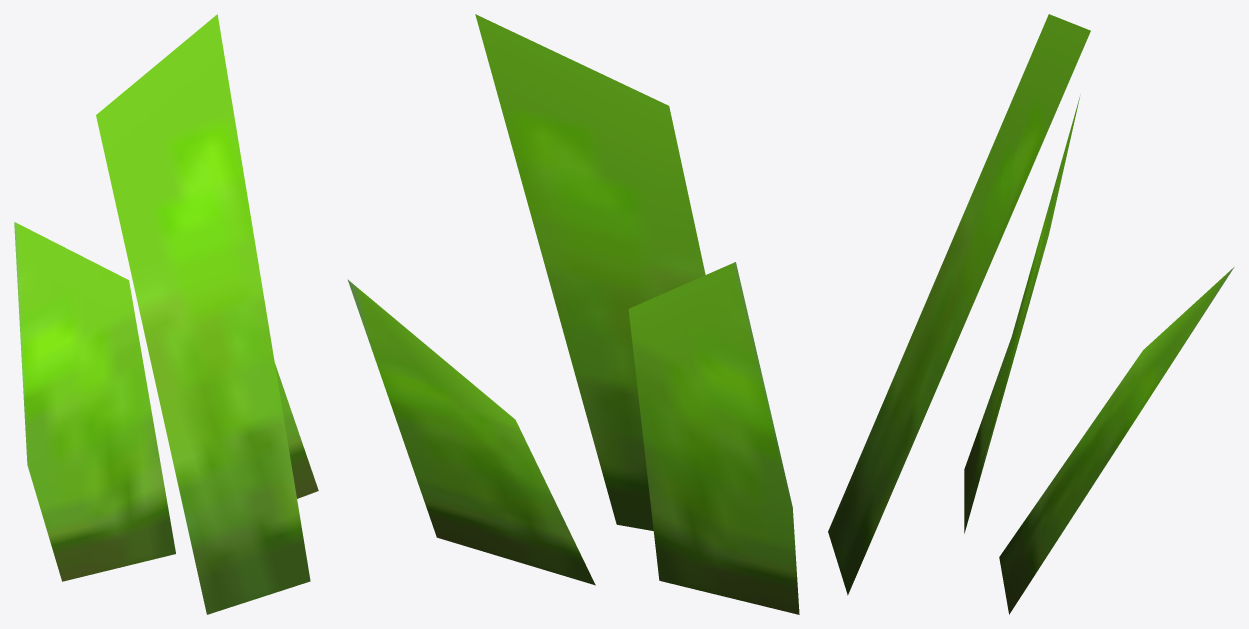
Rendered from fg_grassB.dae.
3 renders of one model, left to right at view 1: azimuth 30°, elevation 25°; view 2: azimuth 150°, elevation 25°; view 3: azimuth 270°, elevation 25°, orthographic. The views are drawn at different scales.
Parts seen in each view (by area): view 1: fg_grassB; view 2: fg_grassB; view 3: fg_grassB.
Part boxes in pixels (left/top/right/bottom): fg_grassB: left=14, top=14, right=318, bottom=614; fg_grassB: left=347, top=14, right=799, bottom=614; fg_grassB: left=828, top=14, right=1234, bottom=614.
Size of the model in its own units: 13.26 by 21.31 by 13.76.
Materials: 1 (1 with a texture image).
